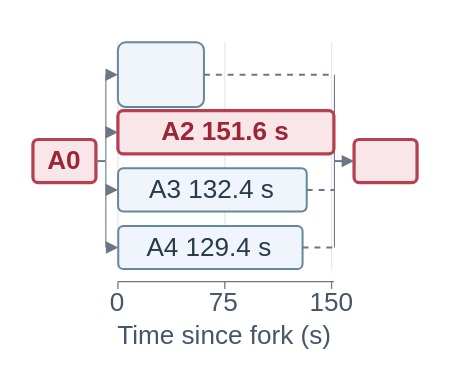
This 450x382 diagram has some shape labels left out. The shapes that lost their labels are listed below. From the top down, each one's centre as x and y in pixels, then its label:
At point 160,73: "A1 60.4 s".
At point 385,160: "A5".
